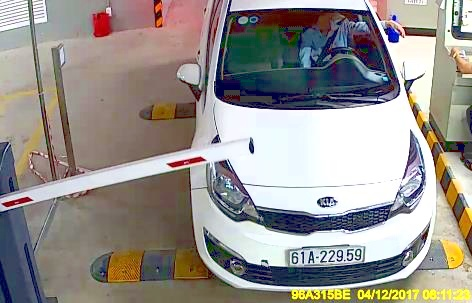plate: (288, 238, 366, 272)
